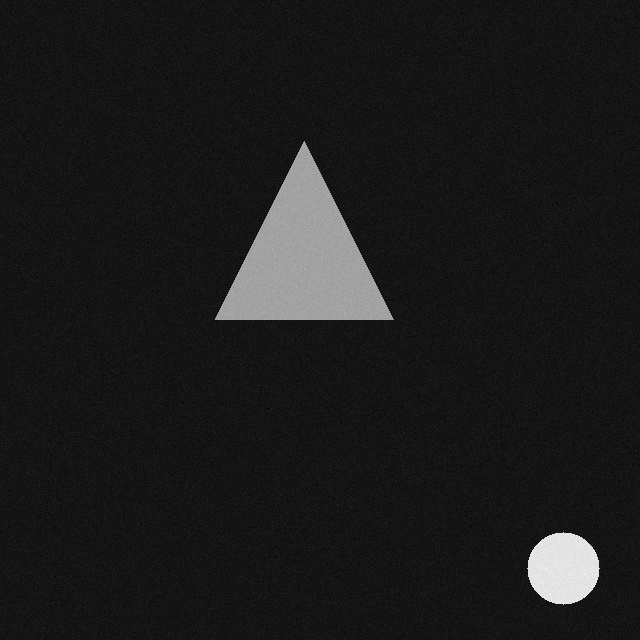circle: (530, 537, 602, 609)
triangle: (218, 146, 396, 324)
